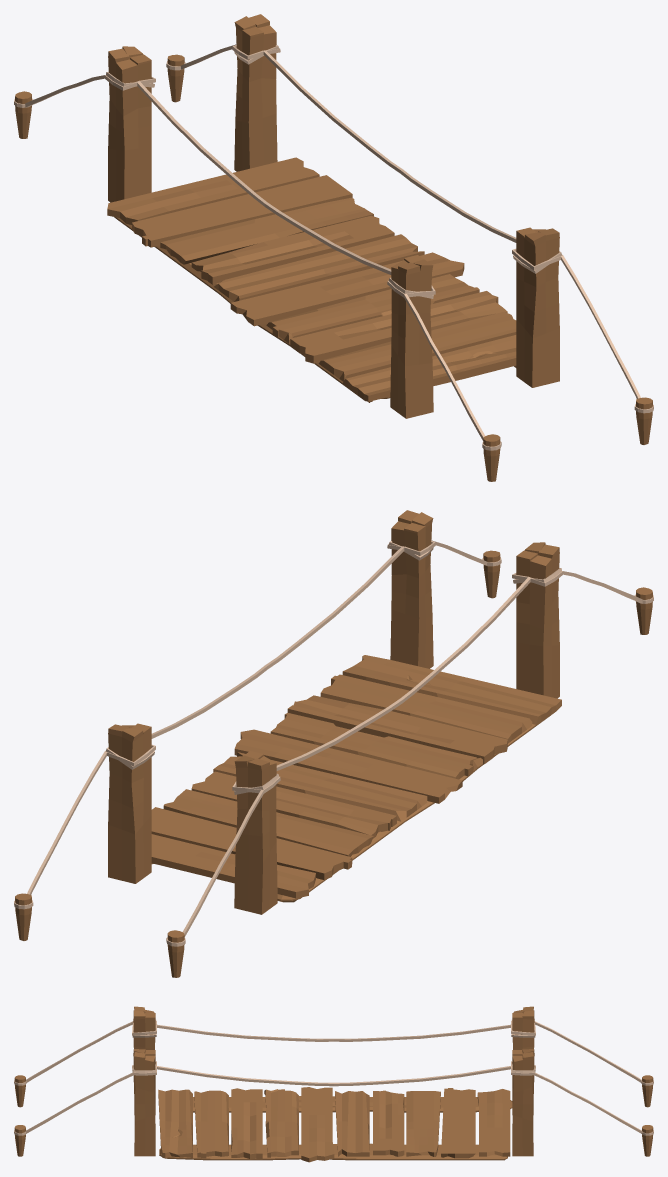
Rendered from bridge.fbx.
3 views of the same model, one above another, from view 1: azimuth 30°, elevation 25°; view 2: azimuth 150°, elevation 25°; view 3: azimuth 270°, elevation 25° (orthographic). The views are drawn at different scales.
Visible parts, largest first — view 1: Cube.024; view 2: Cube.024; view 3: Cube.024.
Part boxes in pixels (<box>): Cube.024: <box>14,14,653,481</box>; Cube.024: <box>14,510,653,977</box>; Cube.024: <box>14,1006,653,1162</box>.
Size of the model in its own units: 569 by 375 by 2161.
